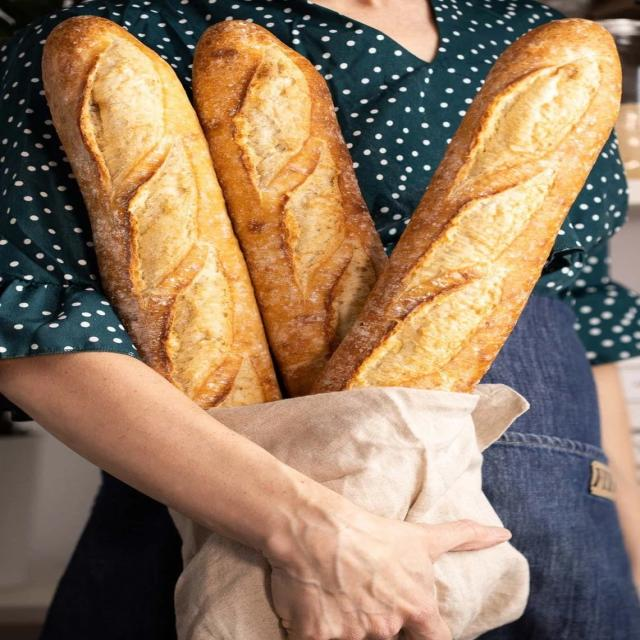Baguette: (320, 20, 619, 392), (43, 20, 280, 408), (194, 21, 384, 396)
